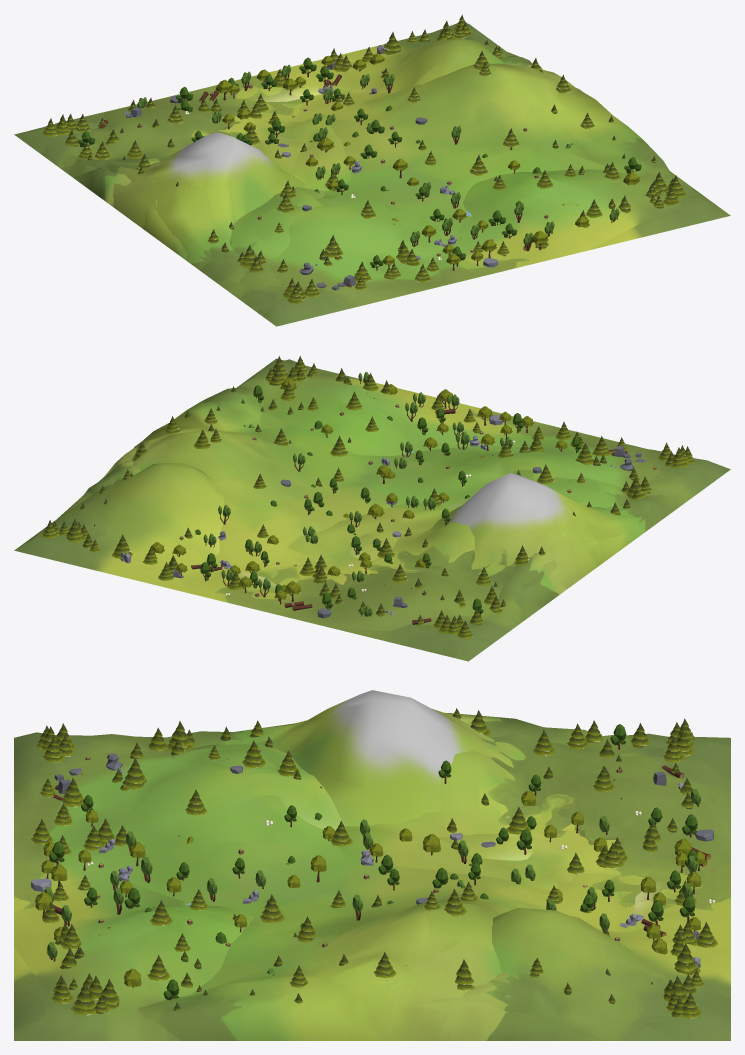
The model's file is terrain.glb.
3 renders of one model, top to bottom at view 1: azimuth 30°, elevation 25°; view 2: azimuth 150°, elevation 25°; view 3: azimuth 270°, elevation 25°, orthographic. The views are drawn at different scales.
Parts seen in each view (by area): view 1: Terrain_3, Terrain_2, Terrain_6, Terrain_5, Terrain_4, Terrain_1; view 2: Terrain_3, Terrain_2, Terrain_5, Terrain_6, Terrain_4, Terrain_1; view 3: Terrain_3, Terrain_2, Terrain_5, Terrain_6, Terrain_4, Terrain_1.
Boxes of the visible parts, <box> form: Terrain_3: <box>39,24,701,326</box>; Terrain_2: <box>50,30,718,316</box>; Terrain_6: <box>60,22,661,293</box>; Terrain_5: <box>14,14,692,299</box>; Terrain_4: <box>16,23,730,326</box>; Terrain_1: <box>23,21,719,324</box>; Terrain_3: <box>59,365,717,649</box>; Terrain_2: <box>38,355,716,636</box>; Terrain_5: <box>40,370,695,661</box>; Terrain_6: <box>53,366,674,627</box>; Terrain_4: <box>14,358,730,660</box>; Terrain_1: <box>66,356,724,654</box>; Terrain_3: <box>14,708,730,1040</box>; Terrain_2: <box>14,712,729,1040</box>; Terrain_5: <box>39,718,730,1040</box>; Terrain_6: <box>14,690,730,1017</box>; Terrain_4: <box>14,720,730,1040</box>; Terrain_1: <box>14,722,730,1040</box>.
Bounding box in the file's own units: 40 × 7.2 × 40.
Materials: 6 (6 with a texture image).
